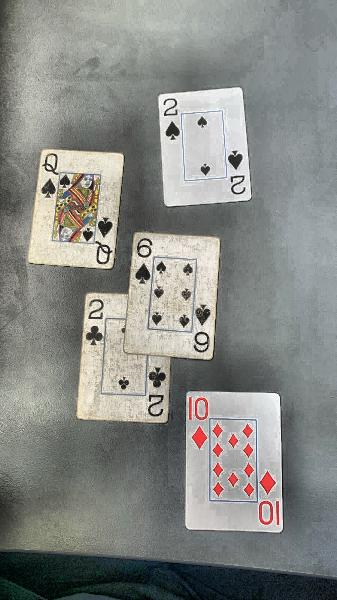10D: (256, 470, 286, 538), (185, 389, 213, 452)
2P: (224, 150, 256, 203), (159, 96, 189, 141)
2T: (141, 365, 172, 426), (85, 293, 110, 346)
6P: (195, 302, 221, 363), (135, 230, 158, 293)
QP: (90, 215, 120, 274), (35, 147, 64, 200)
